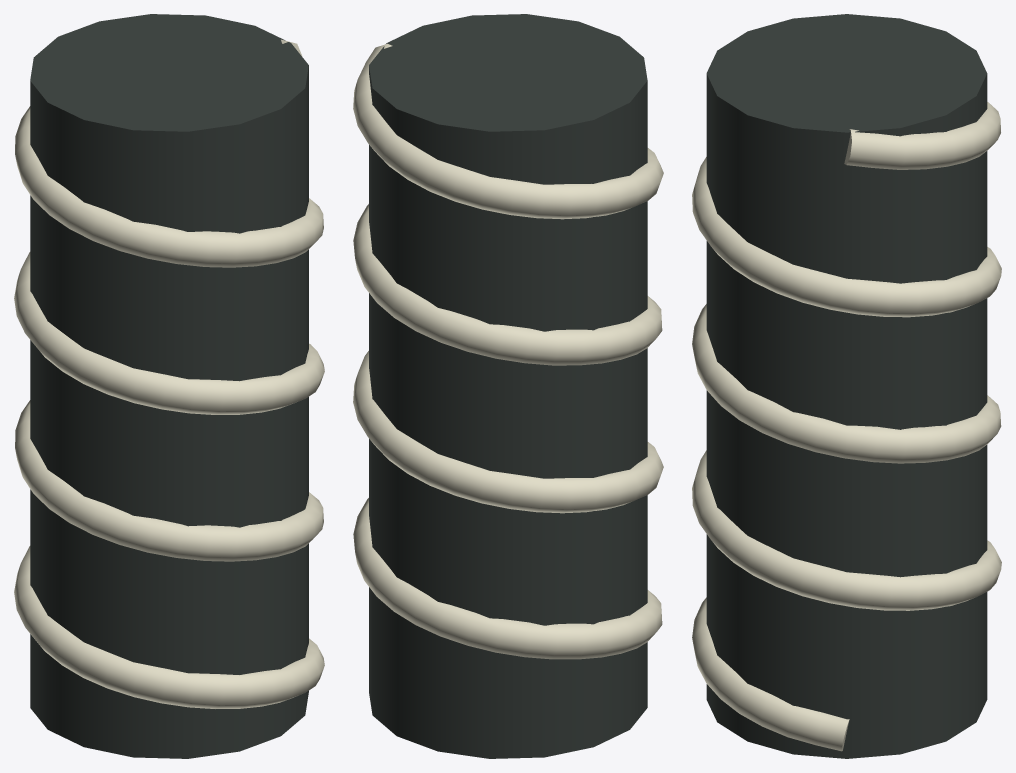
Rendered from scavengers-loot-library-rolled-felt-6c299259__2662.glb.
The picture shows the model from 3 angles, left to right: view 1: azimuth 30°, elevation 25°; view 2: azimuth 150°, elevation 25°; view 3: azimuth 270°, elevation 25°; orthographic projection.
Parts seen in each view (by area): view 1: rolled-felt; view 2: rolled-felt; view 3: rolled-felt.
Part boxes in pixels (x1=…): rolled-felt: x1=14, y1=14, x2=324, y2=758; rolled-felt: x1=353, y1=14, x2=663, y2=758; rolled-felt: x1=692, y1=14, x2=1001, y2=758.
Bounding box in the file's own units: 0.1438 × 0.3208 × 0.1435.
